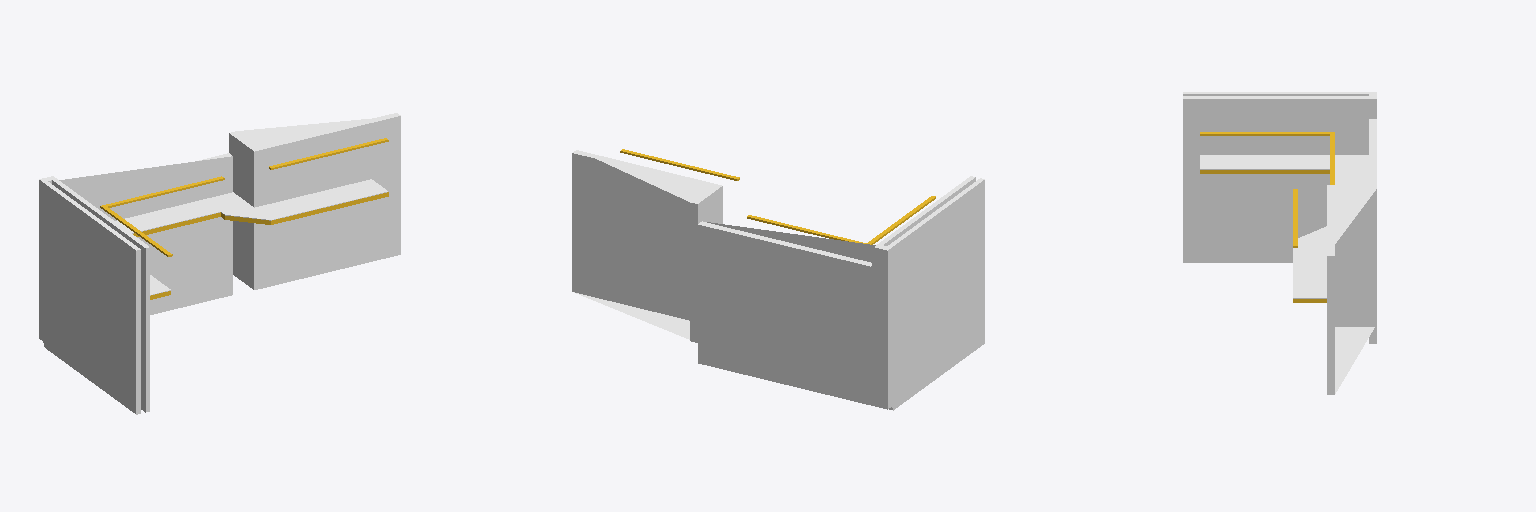
File: OverheadGarageShelves.obj
3 renders of one model, left to right at view 1: azimuth 30°, elevation 25°; view 2: azimuth 150°, elevation 25°; view 3: azimuth 270°, elevation 25°, orthographic.
Parts seen in each view (by area): view 1: Mesh42 MainLevelExteriorWalls1 Group4 Model, Mesh40 ShopDividerWall1 Group4 Model, Mesh41 GarageWalls1 Group4 Model, Mesh39 ShopDividerWall1 Group4 Model, Mesh22 LeftShelf_sheet1 Group1 Model, Mesh26 CornerShelfSheet1_sheet1 Group1 Model, Mesh38 LeftShelf_sheet3 Group1 Model, Mesh2 HorizLongLeft2 Group2 Group1 Model; view 2: Mesh41 GarageWalls1 Group4 Model, Mesh42 MainLevelExteriorWalls1 Group4 Model, Mesh40 ShopDividerWall1 Group4 Model, Mesh39 ShopDividerWall1 Group4 Model; view 3: Mesh39 ShopDividerWall1 Group4 Model, Mesh42 MainLevelExteriorWalls1 Group4 Model, Mesh27 LeftShelf_sheet2 Group1 Model, Mesh22 LeftShelf_sheet1 Group1 Model, Mesh38 LeftShelf_sheet3 Group1 Model, Mesh41 GarageWalls1 Group4 Model, Mesh40 ShopDividerWall1 Group4 Model, Mesh25 HorizLongLeft7 Group1 Model.
Boxes of the visible parts, x1,y1,x2,y2 form: Mesh42 MainLevelExteriorWalls1 Group4 Model: [229, 113, 400, 289]; Mesh40 ShopDividerWall1 Group4 Model: [43, 181, 140, 414]; Mesh41 GarageWalls1 Group4 Model: [39, 153, 232, 340]; Mesh39 ShopDividerWall1 Group4 Model: [52, 179, 149, 412]; Mesh22 LeftShelf_sheet1 Group1 Model: [255, 179, 388, 220]; Mesh26 CornerShelfSheet1_sheet1 Group1 Model: [175, 192, 249, 218]; Mesh38 LeftShelf_sheet3 Group1 Model: [115, 207, 191, 233]; Mesh2 HorizLongLeft2 Group2 Group1 Model: [271, 192, 388, 224]; Mesh41 GarageWalls1 Group4 Model: [698, 221, 891, 409]; Mesh42 MainLevelExteriorWalls1 Group4 Model: [572, 150, 722, 342]; Mesh40 ShopDividerWall1 Group4 Model: [888, 178, 984, 410]; Mesh39 ShopDividerWall1 Group4 Model: [879, 176, 975, 245]; Mesh39 ShopDividerWall1 Group4 Model: [1183, 96, 1368, 262]; Mesh42 MainLevelExteriorWalls1 Group4 Model: [1327, 185, 1376, 394]; Mesh27 LeftShelf_sheet2 Group1 Model: [1200, 155, 1329, 169]; Mesh22 LeftShelf_sheet1 Group1 Model: [1293, 241, 1326, 298]; Mesh38 LeftShelf_sheet3 Group1 Model: [1335, 155, 1368, 184]; Mesh41 GarageWalls1 Group4 Model: [1369, 92, 1376, 343]; Mesh40 ShopDividerWall1 Group4 Model: [1183, 92, 1368, 95]; Mesh25 HorizLongLeft7 Group1 Model: [1200, 132, 1334, 135].
Bounding box in the file's own units: 276 × 128 × 138.